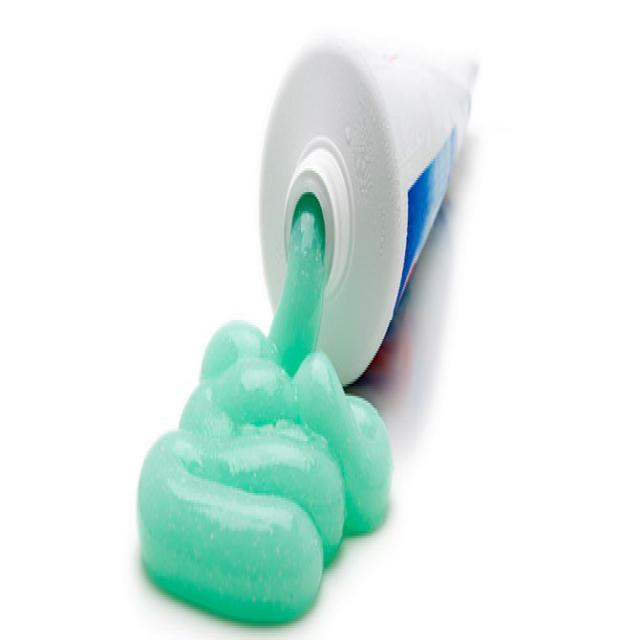toothpaste: (252, 0, 492, 391)
